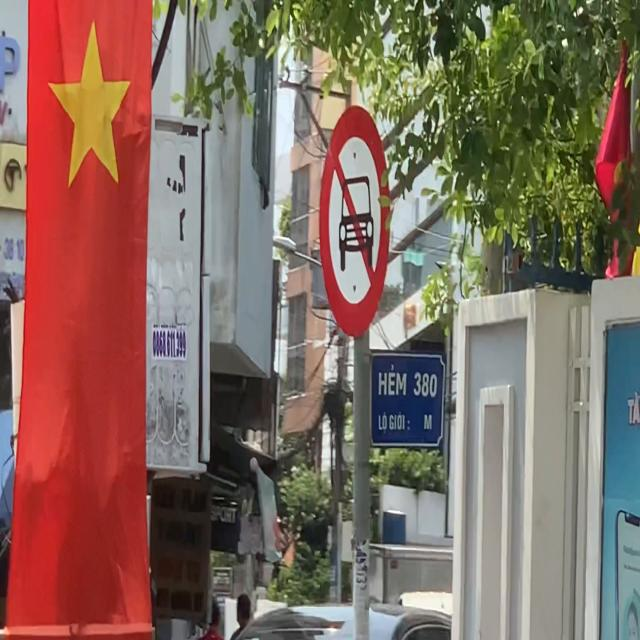Cam con lai: (319, 104, 390, 338)
